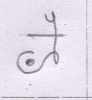o_matra: (49, 10, 60, 64)
